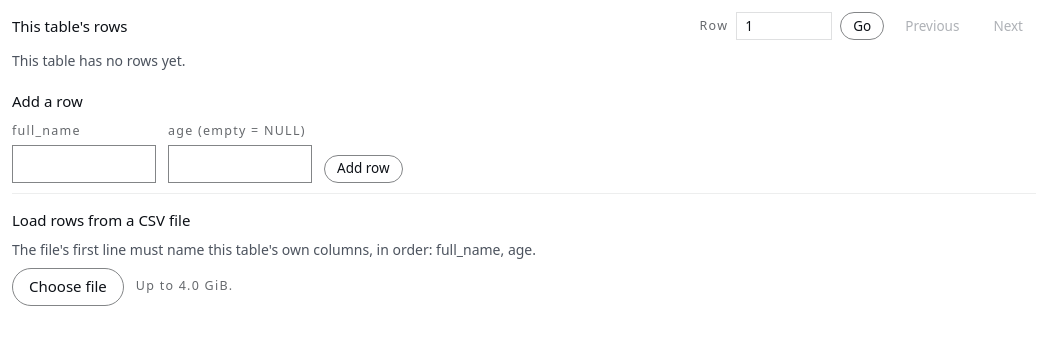
Scenario: the table builder's own data panel › adds a row typed into the form, one input per column
This screenshot has width=1048, height=364.
Expected: the text "This table has no rows yet." is shown, [12,51,186,70]
Type "Ada" into the field labelled "full_name" at (84,164), box [12,145,156,183]
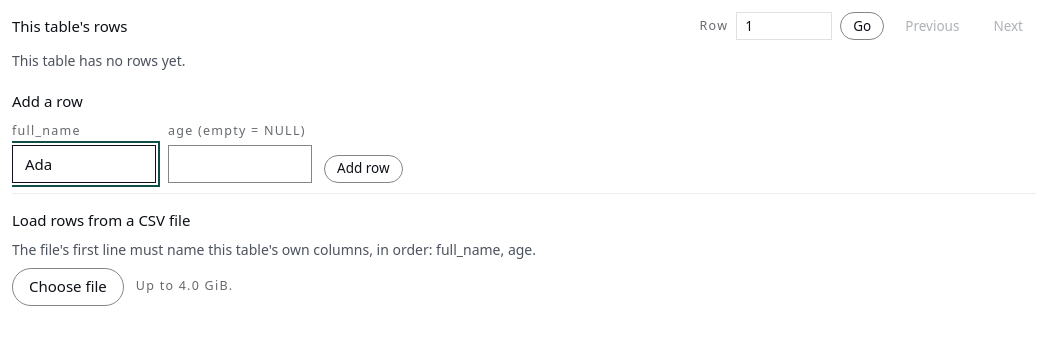
Type "37" into the number field labelled "age (empty = NULL)" at (240,164), box [168,145,312,183]
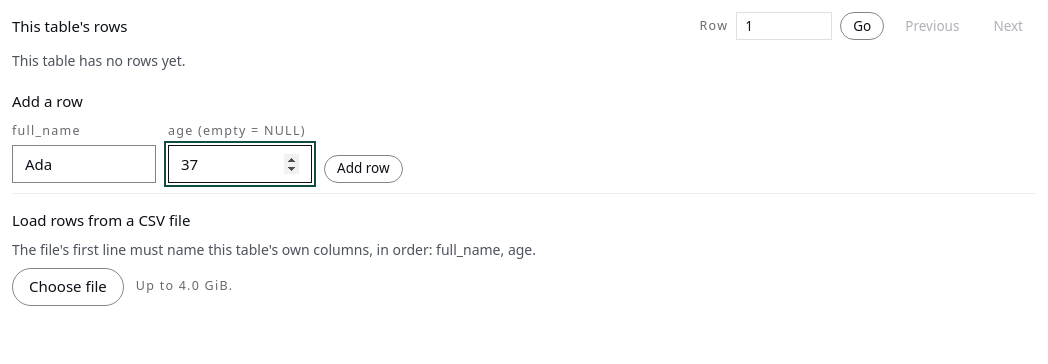
Click the button "Add row" at (363,169), box [324,155,403,183]
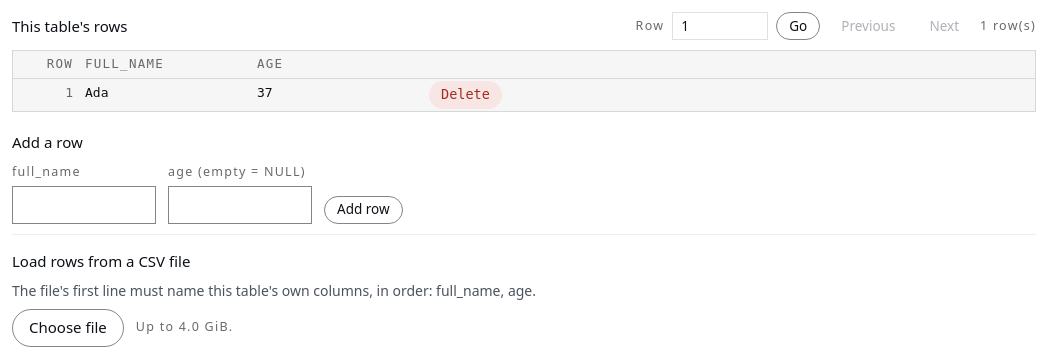
Result: the text "Ada" is shown at [85,85,108,100]
